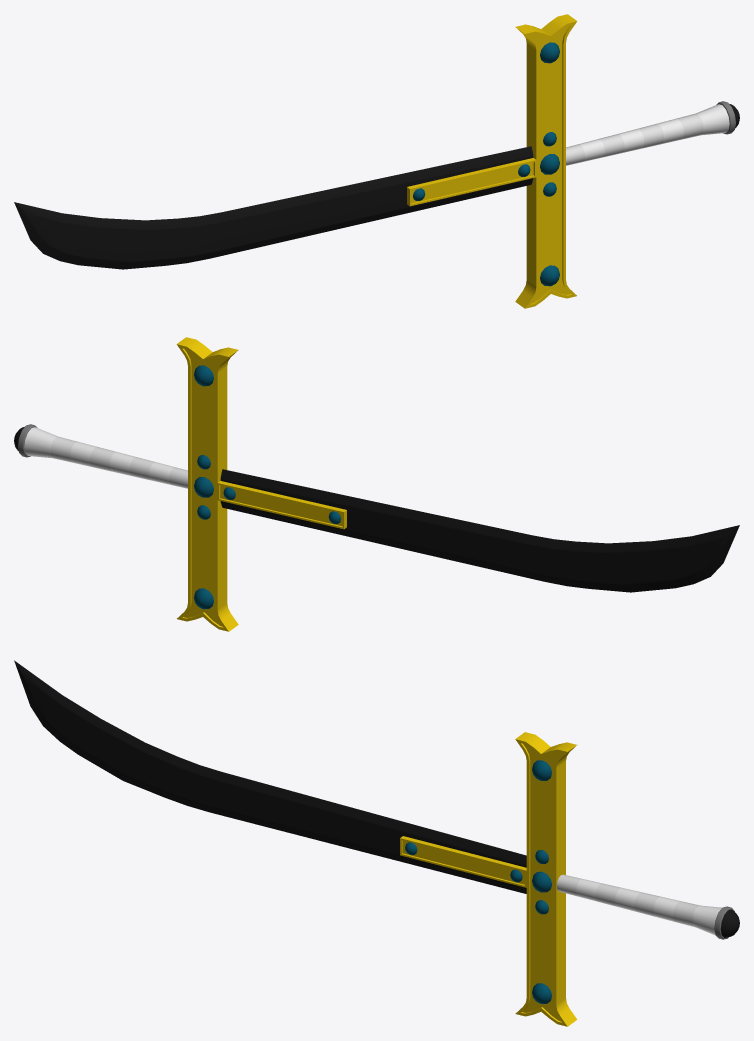
The model's file is gog_mihawks-schwert_mesh.fbx.
3 views of the same model, one above another, from view 1: azimuth 30°, elevation 25°; view 2: azimuth 150°, elevation 25°; view 3: azimuth 330°, elevation 25° (orthographic).
Visible parts, largest first — view 1: polySurface9; view 2: polySurface9; view 3: polySurface9.
Boxes of the visible parts, bbox=[...] form: polySurface9: bbox=[14, 14, 739, 308]; polySurface9: bbox=[14, 337, 739, 631]; polySurface9: bbox=[14, 660, 739, 1026].
Bounding box in the file's own units: 458 × 166 × 18.28.
